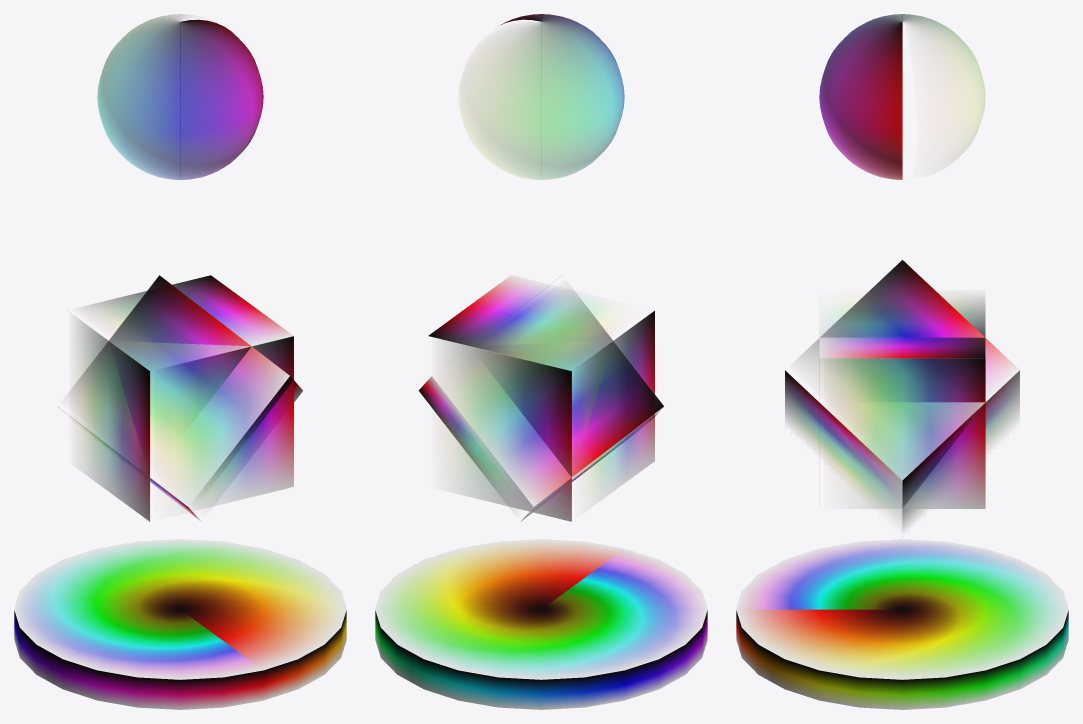
File: opacity-color-map.gltf
The picture shows the model from 3 angles, left to right: view 1: azimuth 30°, elevation 25°; view 2: azimuth 150°, elevation 25°; view 3: azimuth 270°, elevation 25°; orthographic projection.
Visible parts, largest first — view 1: base, cube, diamond, sphere; view 2: base, cube, diamond, sphere; view 3: base, diamond, cube, sphere.
Part boxes in pixels (left/top/right/bottom): base: left=14, top=539, right=346, bottom=709; cube: left=79, top=275, right=293, bottom=521; diamond: left=58, top=275, right=303, bottom=521; sphere: left=97, top=14, right=263, bottom=179; base: left=375, top=539, right=707, bottom=709; cube: left=428, top=275, right=654, bottom=521; diamond: left=418, top=295, right=664, bottom=521; sphere: left=466, top=14, right=624, bottom=179; base: left=736, top=539, right=1068, bottom=709; diamond: left=785, top=260, right=1019, bottom=530; cube: left=819, top=298, right=985, bottom=508; sphere: left=819, top=14, right=985, bottom=179.
Size of the model in its own units: 1 by 2.05 by 1.
2 materials, 2 textured.
